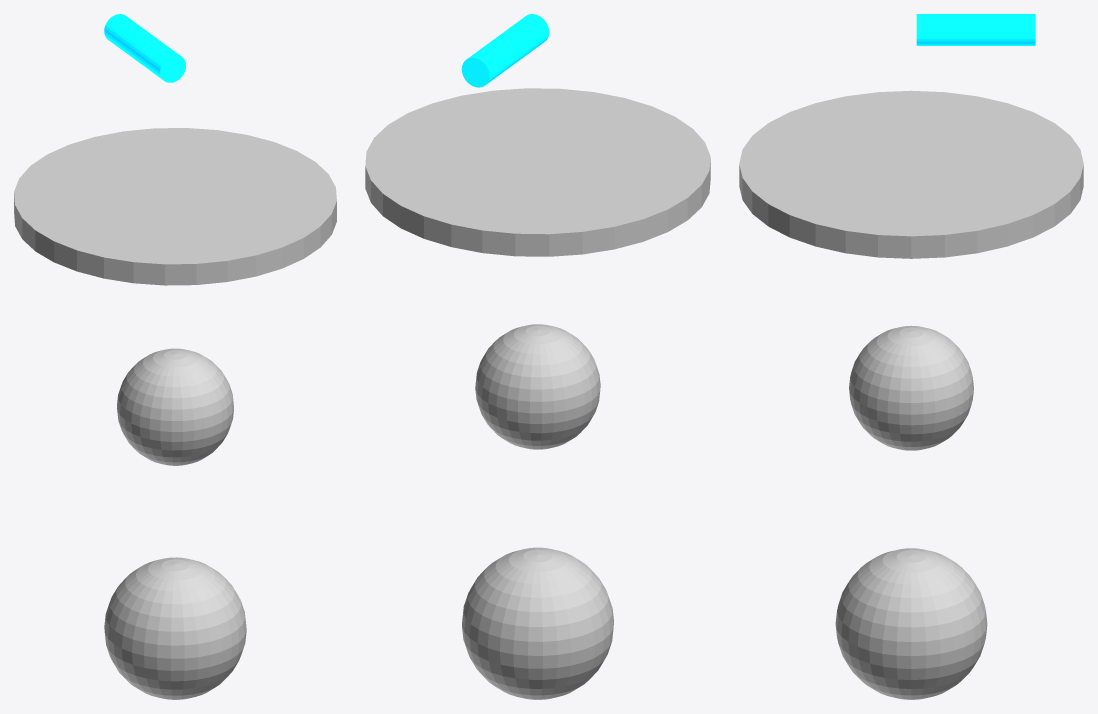
Rendered from Turm6Maho.fbx.
3 views of the same model, side by side, from view 1: azimuth 30°, elevation 25°; view 2: azimuth 150°, elevation 25°; view 3: azimuth 270°, elevation 25° (orthographic). The views are drawn at different scales.
Visible parts, largest first — view 1: Sphere.001, Cylinder.001; view 2: Sphere.001, Cylinder.001; view 3: Sphere.001, Cylinder.001.
Boxes of the visible parts, x1,y1,x2,y2 form: Sphere.001: (14,128,336,699); Cylinder.001: (104,14,185,82); Sphere.001: (365,88,710,699); Cylinder.001: (461,14,549,87); Sphere.001: (739,90,1083,699); Cylinder.001: (916,14,1035,45).
Bounding box in the file's own units: 197 × 428 × 197.
